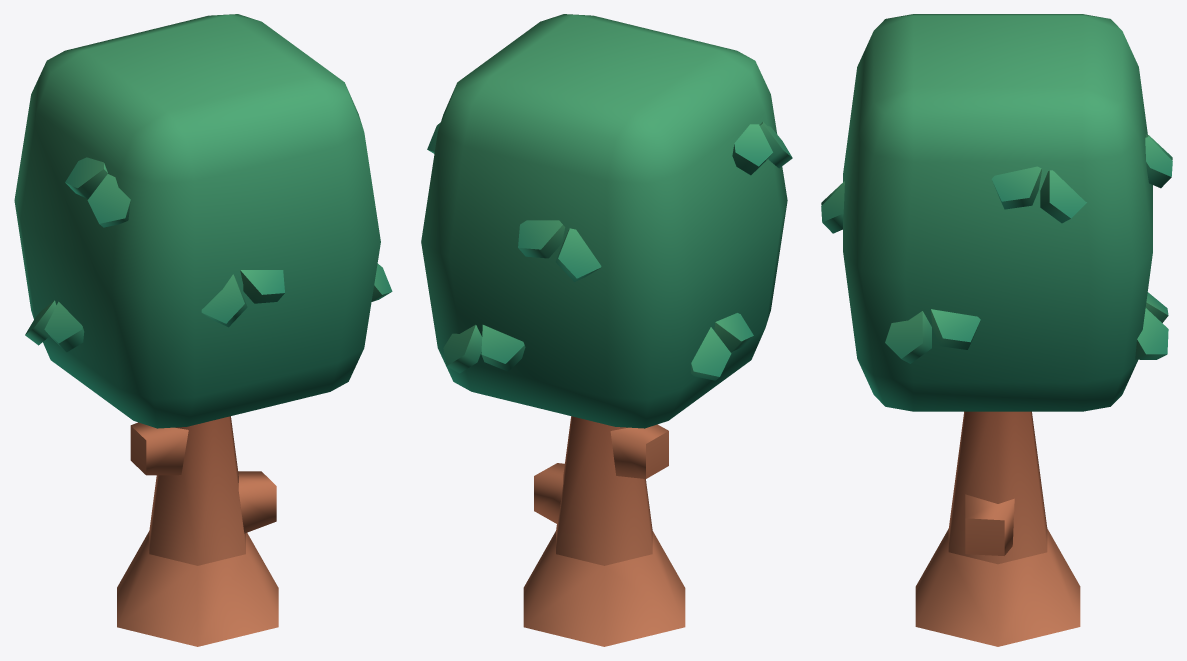
File: arvore-folhosa.glb
3 views of the same model, side by side, from view 1: azimuth 30°, elevation 25°; view 2: azimuth 150°, elevation 25°; view 3: azimuth 270°, elevation 25° (orthographic).
Visible parts, largest first — view 1: modelo; view 2: modelo; view 3: modelo.
Part boxes in pixels (x1,y1,x2,y2): modelo: (14, 14, 392, 646); modelo: (421, 14, 792, 646); modelo: (821, 14, 1172, 646).
Bounding box in the file's own units: 1.28 × 2.27 × 1.31.
